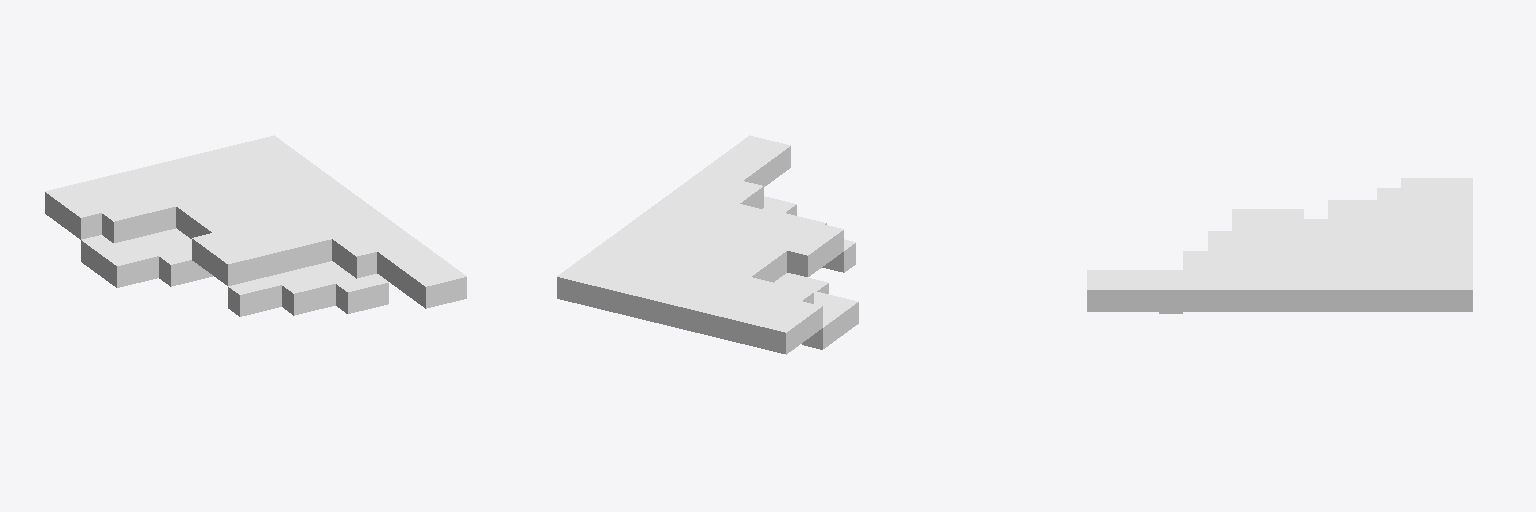
File: stairs_shard-1.obj
3 renders of one model, left to right at view 1: azimuth 30°, elevation 25°; view 2: azimuth 150°, elevation 25°; view 3: azimuth 270°, elevation 25°, orthographic.
Visible parts, largest first — view 1: object 1; view 2: object 1; view 3: object 1.
Boxes of the visible parts, x1,y1,x2,y2 form: object 1: [45, 135, 466, 316]; object 1: [557, 135, 858, 354]; object 1: [1087, 178, 1472, 313].
Bounding box in the file's own units: 1.1 × 0.2 × 1.6.